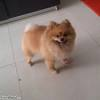Bulldog: (15, 12, 93, 79)
